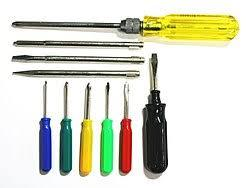screwdriver: (121, 13, 239, 41), (143, 52, 167, 173), (10, 14, 119, 31), (12, 38, 144, 48), (118, 81, 132, 173), (79, 81, 92, 174), (11, 54, 145, 63), (38, 79, 51, 171), (11, 68, 140, 77), (101, 81, 113, 174), (61, 80, 72, 172)
